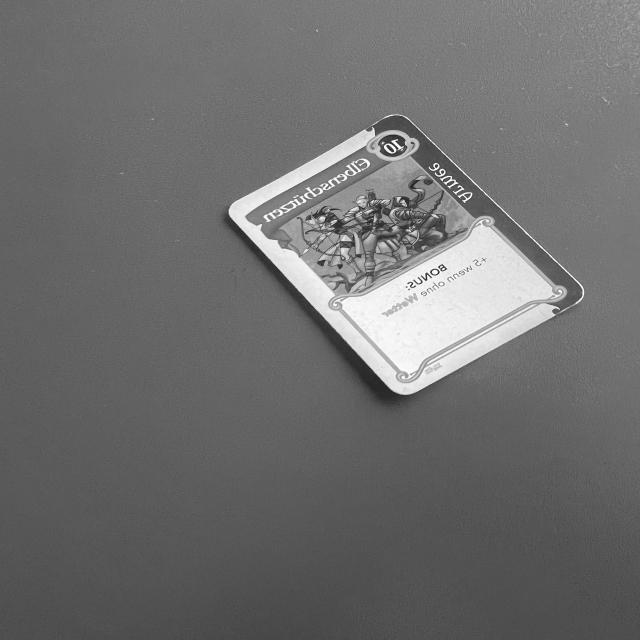Elven Archers: (220, 110, 596, 403)
